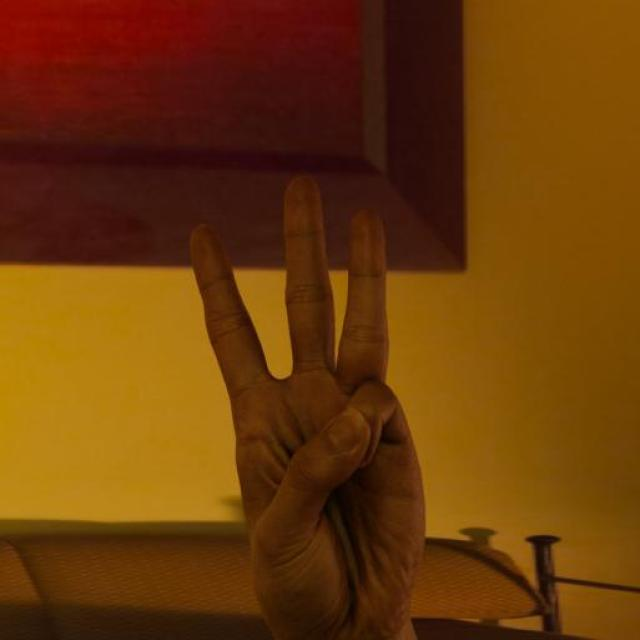W: (183, 168, 437, 632)
